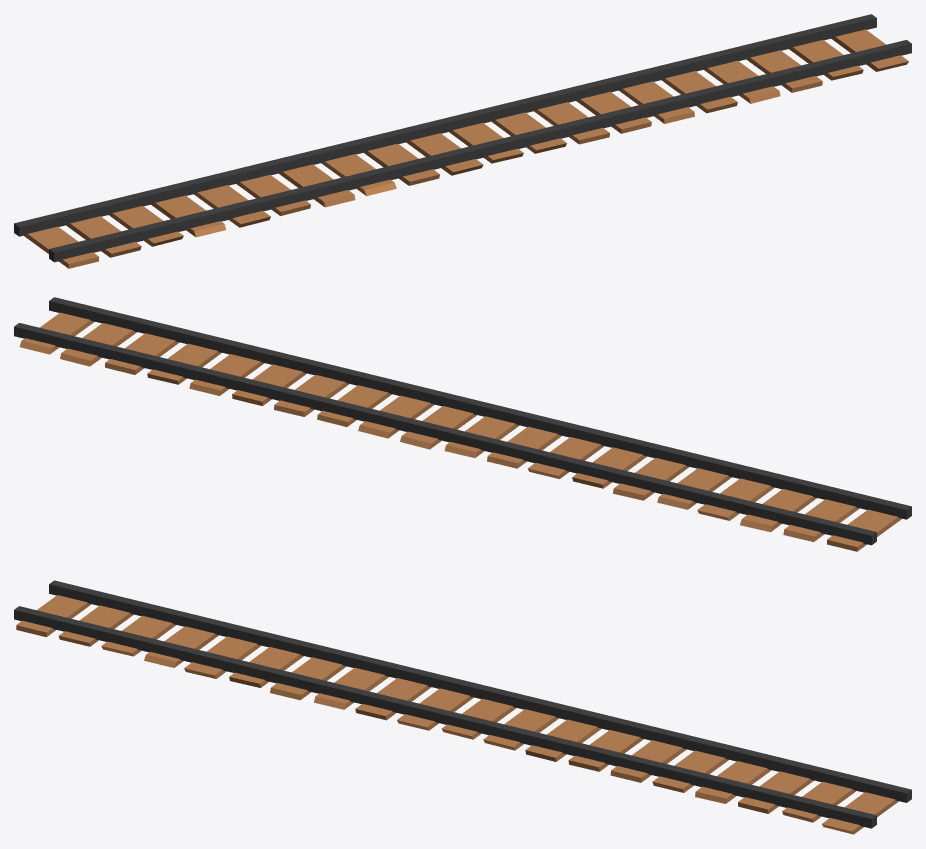
The model's file is Rails.fbx.
The picture shows the model from 3 angles, top to bottom: view 1: azimuth 30°, elevation 25°; view 2: azimuth 150°, elevation 25°; view 3: azimuth 330°, elevation 25°; orthographic projection.
Parts seen in each view (by area): view 1: Cube.002; view 2: Cube.002; view 3: Cube.002.
Part boxes in pixels (<box>): Cube.002: <box>14,14,911,268</box>; Cube.002: <box>14,297,911,551</box>; Cube.002: <box>14,580,911,834</box>.
Bounding box in the file's own units: 56.5 × 0.8575 × 6.51.
